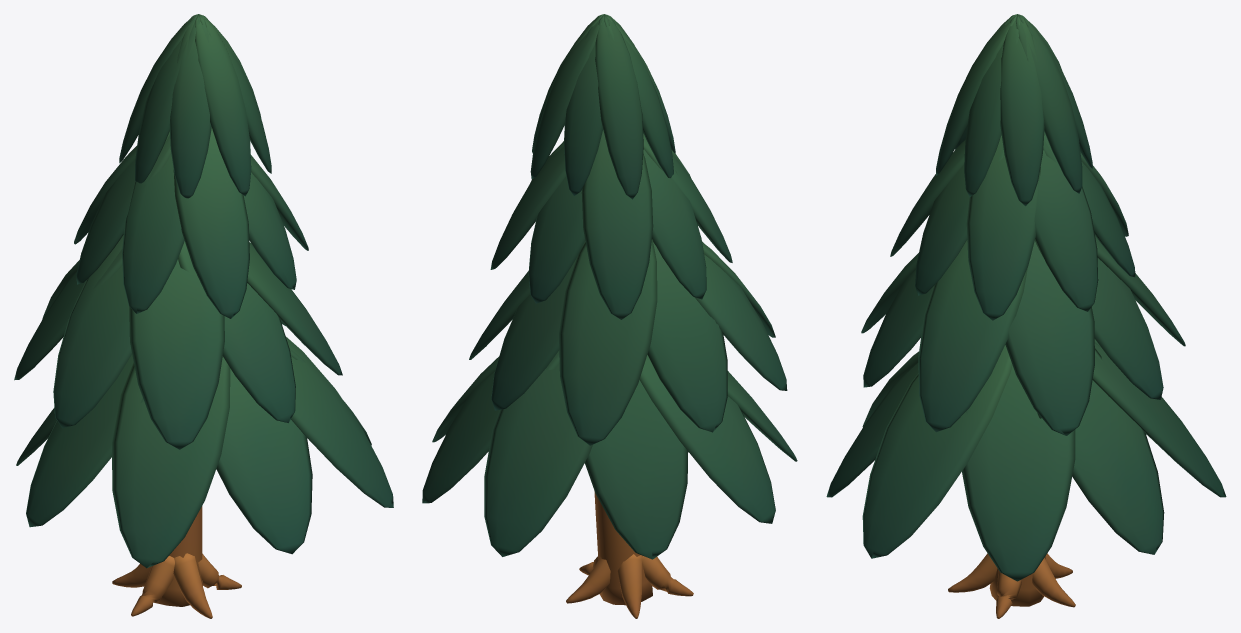
File: wind_pine.glb
3 views of the same model, side by side, from view 1: azimuth 30°, elevation 25°; view 2: azimuth 150°, elevation 25°; view 3: azimuth 270°, elevation 25° (orthographic). The views are drawn at different scales.
Visible parts, largest first — view 1: Foliage, Wood; view 2: Foliage, Wood; view 3: Foliage, Wood.
Boxes of the visible parts, x1,y1,x2,y2 form: Foliage: (14, 14, 393, 568); Wood: (112, 506, 241, 618); Foliage: (422, 14, 797, 559); Wood: (566, 491, 693, 618); Foliage: (826, 14, 1226, 581); Wood: (948, 553, 1075, 618).
Bounding box in the file's own units: 4.16 × 6.81 × 4.16.
